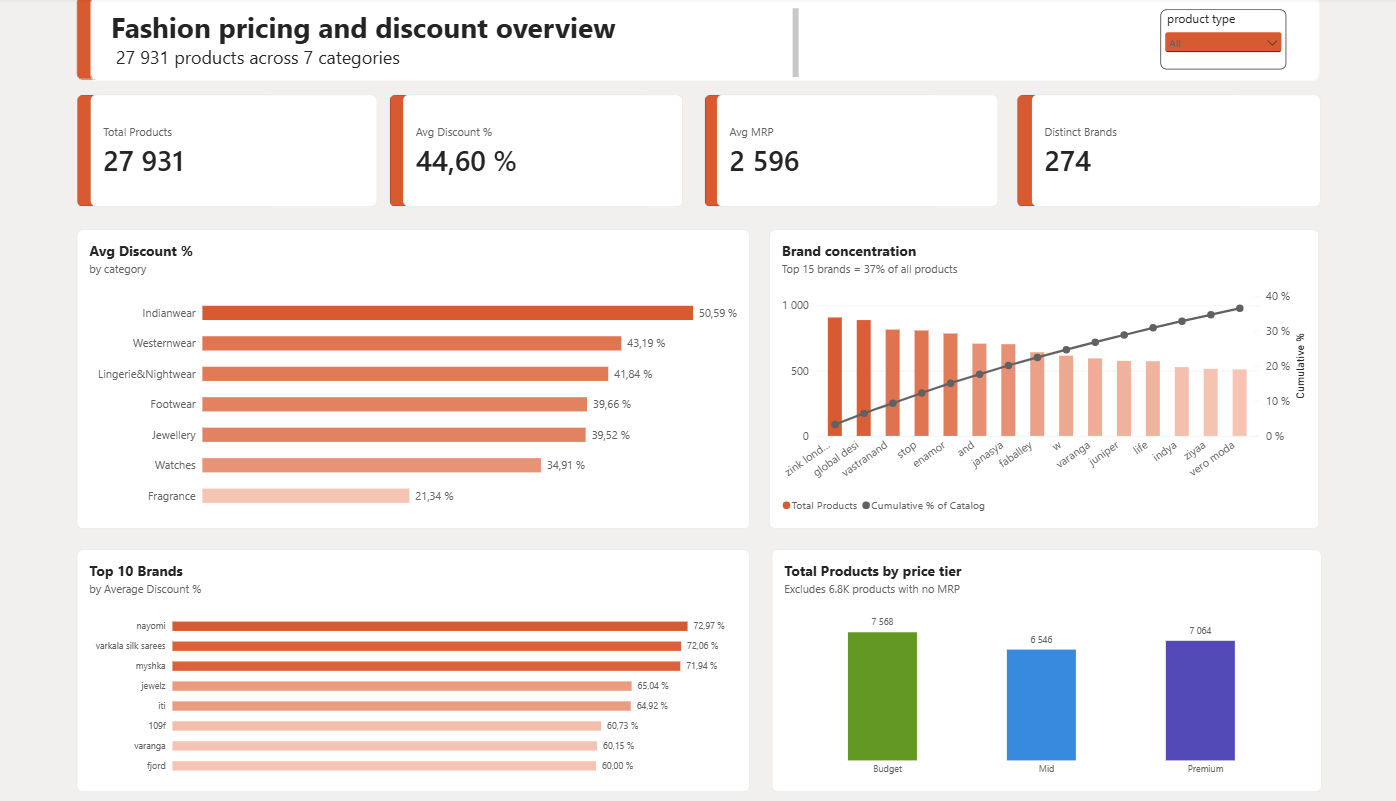

This screenshot's page, from the dashboard's own definition file:
{"tool":"powerbi","page":{"name":"Page 1","canvas":[1920,1080],"ordinal":0},"visuals":[{"type":"shape","box":[105,130.3,262.4,150.2],"z":0},{"type":"cardVisual","fields":{"Data":["dim_brand.Total Products"]},"box":[123.6,130.2,383.6,150.2],"z":1000},{"type":"shape","box":[523,130.3,351.1,150.2],"z":2000},{"type":"cardVisual","fields":{"Data":["dim_brand.Avg Discount"]},"box":[540.7,130.2,374.3,150.1],"z":3000},{"type":"textbox","box":[150,420,300,300],"z":4000},{"type":"shape","box":[942.8,130.3,313.1,150.2],"z":5000},{"type":"cardVisual","fields":{"Data":["Metrics.Avg MRP"]},"box":[960.2,130.2,376.1,150.1],"z":6000},{"type":"shape","box":[1360.9,130.3,300.4,150.2],"z":7000},{"type":"cardVisual","fields":{"Data":["dim_brand.Distinct Brands"]},"box":[1381.5,130.2,387,150.1],"z":8000},{"type":"clusteredBarChart","title":"Avg Discount % ","fields":{"Category":["dim_category.product_type"],"Y":["Metrics.Avg Discount %"]},"box":[105,311.3,899.4,399.9],"z":9000},{"type":"clusteredColumnChart","title":"Total Products by price tier","fields":{"Category":["fact_products.price_tier"],"Y":["dim_brand.Total Products"]},"box":[1033.3,738.3,734.7,323.9],"z":10000},{"type":"lineClusteredColumnComboChart","title":"Brand concentration ","fields":{"Category":["dim_brand.brand_name"],"Y":["dim_brand.Total Products"],"Y2":["dim_brand.Cumulative % of Catalog"]},"box":[1029.7,311.3,734.7,399.9],"z":11000},{"type":"clusteredBarChart","title":"Top 10 Brands ","fields":{"Category":["dim_brand.brand_name"],"Y":["dim_brand.Avg Discount %"]},"box":[105,738.3,899.4,323.9],"z":12000},{"type":"shape","box":[104.9,0,132,110.3],"z":13000},{"type":"shape","box":[123,0,1641.9,112.1],"z":14000},{"type":"textbox","box":[150.2,14.5,919.3,95.9],"z":15000},{"type":"slicer","fields":{"Values":["dim_category.product_type"]},"box":[1552.7,16.3,168.3,79.6],"z":16000}]}

Visuals, with their boxes in screenshot pixels (x1, y1, x2, y2), scaled from the page's 1920x1080 canvas onto the 1396x801 screenshot:
shape: crop(76, 97, 267, 208)
cardVisual - dim_brand.Total Products: crop(90, 97, 369, 208)
shape: crop(380, 97, 636, 208)
cardVisual - dim_brand.Avg Discount: crop(393, 97, 665, 208)
textbox: crop(109, 312, 327, 534)
shape: crop(685, 97, 913, 208)
cardVisual - Metrics.Avg MRP: crop(698, 97, 972, 208)
shape: crop(989, 97, 1208, 208)
cardVisual - dim_brand.Distinct Brands: crop(1004, 97, 1286, 208)
"Avg Discount % " clusteredBarChart: crop(76, 231, 730, 527)
"Total Products by price tier" clusteredColumnChart: crop(751, 548, 1285, 788)
"Brand concentration " lineClusteredColumnComboChart: crop(749, 231, 1283, 527)
"Top 10 Brands " clusteredBarChart: crop(76, 548, 730, 788)
shape: crop(76, 0, 172, 82)
shape: crop(89, 0, 1283, 83)
textbox: crop(109, 11, 778, 82)
slicer - dim_category.product_type: crop(1129, 12, 1251, 71)
